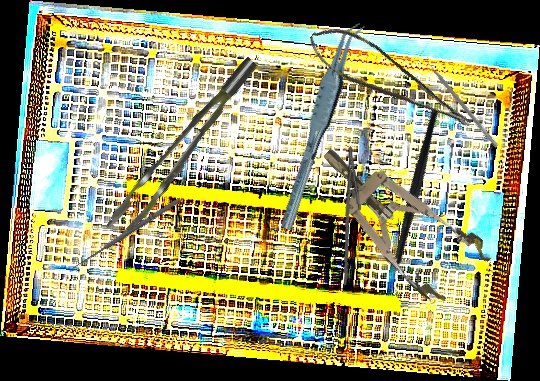Chopper: (333, 107, 499, 300)
Hook Surgical: (70, 196, 184, 276)
Micro Scissor: (301, 10, 476, 156)
Needle Holder: (331, 145, 375, 286)
Spatula Surgical: (421, 54, 503, 149)
Speculum: (299, 121, 497, 313)
Tissue Forceps: (89, 56, 280, 242), (257, 18, 384, 232)
